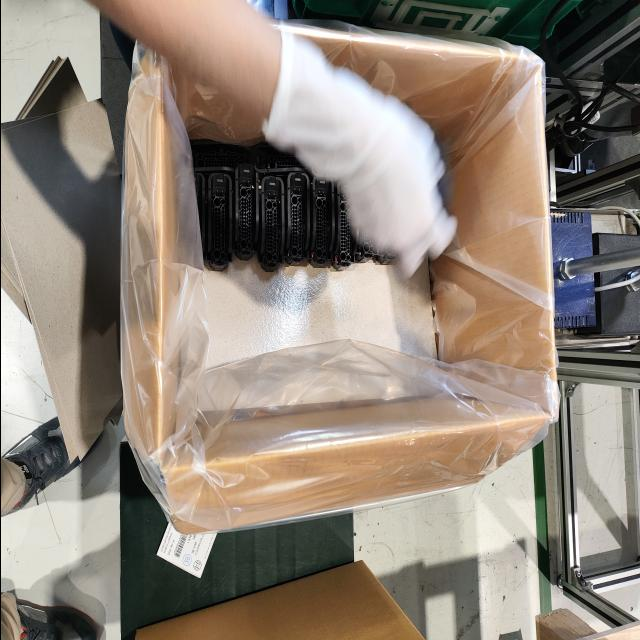P38: (330, 179, 359, 272), (205, 173, 232, 272), (306, 175, 333, 269), (257, 177, 283, 273), (283, 172, 309, 267), (233, 163, 258, 261), (188, 139, 251, 172), (251, 141, 306, 173), (191, 172, 205, 262), (354, 215, 379, 264), (374, 238, 400, 266)
